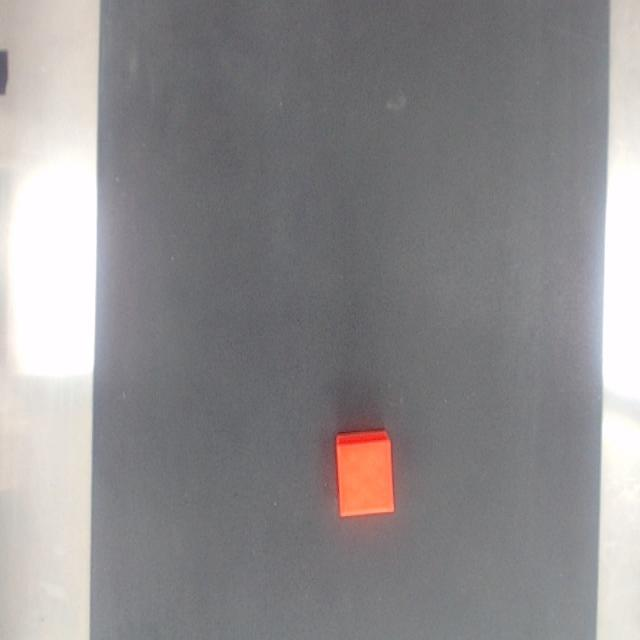Rojo: (336, 431, 394, 517)
